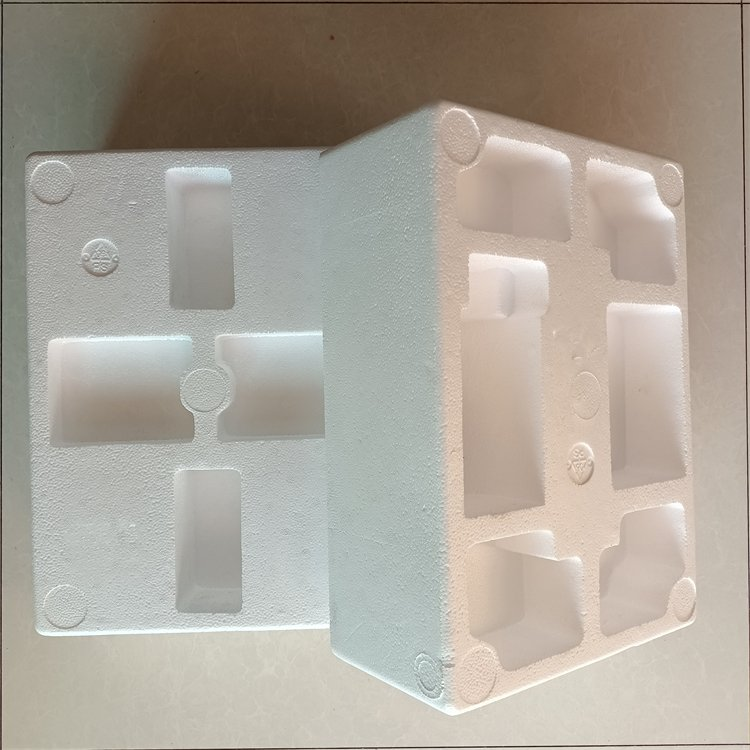泡沫箱: (27, 105, 696, 710)
